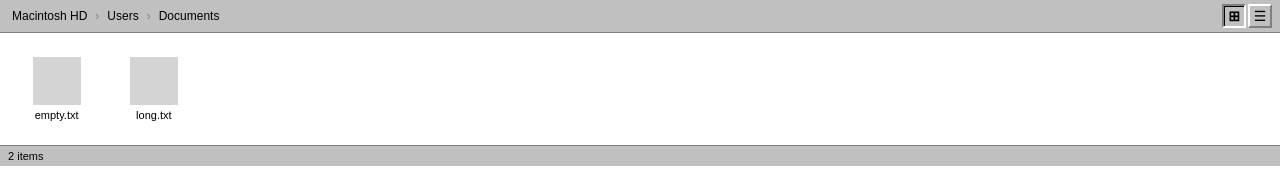
Scenario: Finder › Edge Cases › handles file content of various lengths
The image size is (1280, 183).
Click the button titled "List View" at (1260, 16), box left=1248, top=4, right=1272, bottom=28
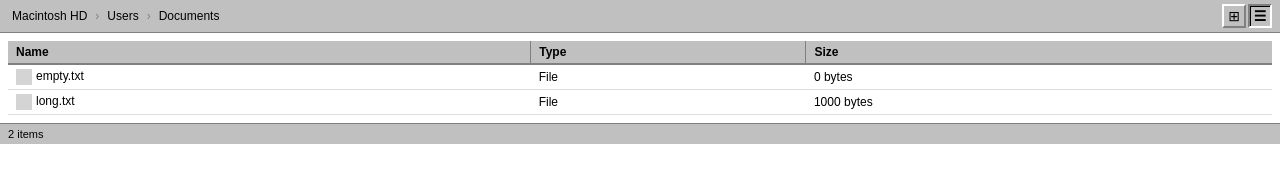
Expected: the text "0 bytes" is shown, left=806, top=64, right=1272, bottom=90
Expected: the text "1000 bytes" is shown, left=806, top=90, right=1272, bottom=114
